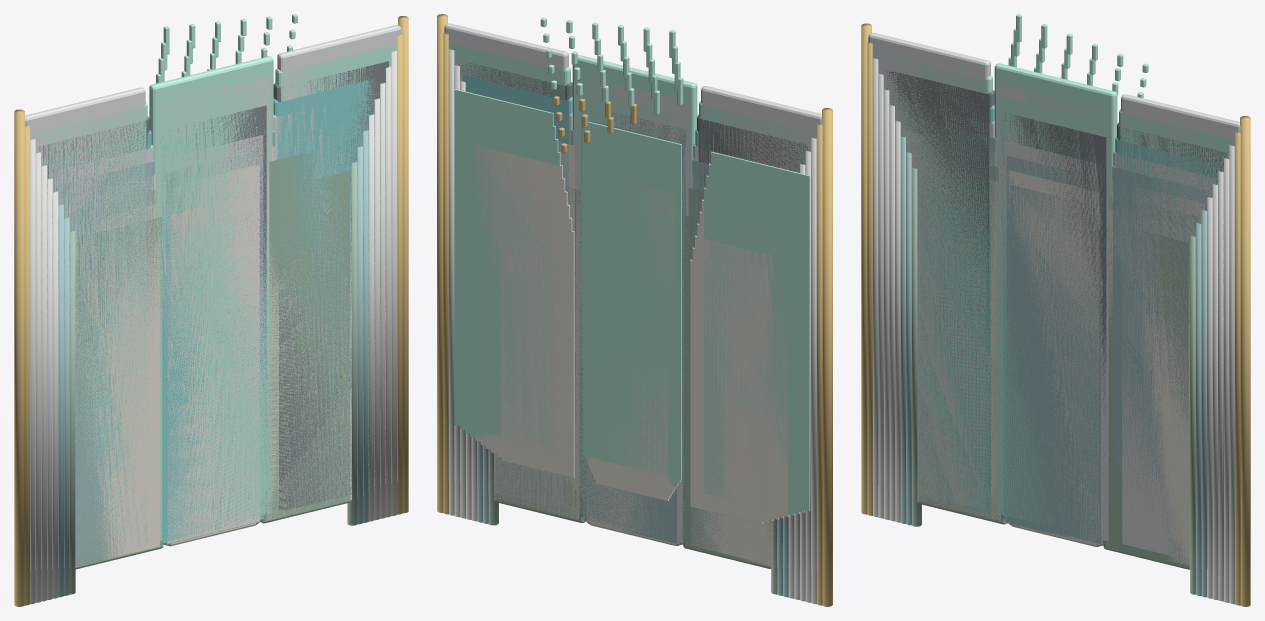
Rendered from Gear19.fbx.
The picture shows the model from 3 angles, left to right: view 1: azimuth 30°, elevation 25°; view 2: azimuth 150°, elevation 25°; view 3: azimuth 330°, elevation 25°; orthographic projection.
Parts seen in each view (by area): view 1: Gear19_V10_Glow, Gear19_V1_Sage, Gear19_V2_Ivory, Gear19_V3_Linen, Gear19_V10_Platinum, Gear19_V9_Glow, Gear19_V7_Aqua, Gear19_V8_Graphite, Gear19_V5_Blue, Gear19_V6_Aqua, Gear19_V3_Sage, Gear19_V10_Gold (+16 smaller); view 2: Gear19_V10_Glow, Gear19_V1_Linen, Gear19_V9_Glow, Gear19_V6_Linen, Gear19_V3_Linen, Gear19_V7_Glow, Gear19_V8_Glow, Gear19_V10_Platinum, Gear19_V10_Gold, Gear19_V2_Linen, Gear19_V9_Platinum, Gear19_V1_Sage (+21 smaller); view 3: Gear19_V10_Platinum, Gear19_V4_Blue, Gear19_V9_Glow, Gear19_V7_Aqua, Gear19_V5_Blue, Gear19_V4_Linen, Gear19_V10_Glow, Gear19_V3_Linen, Gear19_V1_Sage, Gear19_V8_Graphite, Gear19_V2_Blue, Gear19_V10_Gold (+15 smaller).
Part boxes in pixels (bbox=[...]): Gear19_V10_Glow: bbox=[149, 14, 297, 527]; Gear19_V1_Sage: bbox=[69, 162, 357, 594]; Gear19_V2_Ivory: bbox=[72, 176, 351, 568]; Gear19_V3_Linen: bbox=[165, 164, 260, 545]; Gear19_V10_Platinum: bbox=[25, 25, 401, 570]; Gear19_V9_Glow: bbox=[32, 29, 394, 570]; Gear19_V7_Aqua: bbox=[44, 80, 380, 569]; Gear19_V8_Graphite: bbox=[38, 61, 388, 569]; Gear19_V5_Blue: bbox=[55, 130, 368, 568]; Gear19_V6_Aqua: bbox=[162, 127, 264, 542]; Gear19_V3_Sage: bbox=[69, 149, 357, 567]; Gear19_V10_Gold: bbox=[14, 16, 408, 606]; Gear19_V10_Glow: bbox=[454, 17, 810, 536]; Gear19_V1_Linen: bbox=[501, 230, 763, 524]; Gear19_V9_Glow: bbox=[451, 33, 813, 570]; Gear19_V6_Linen: bbox=[475, 146, 789, 517]; Gear19_V3_Linen: bbox=[490, 187, 773, 545]; Gear19_V7_Glow: bbox=[470, 64, 794, 515]; Gear19_V8_Glow: bbox=[464, 49, 799, 534]; Gear19_V10_Platinum: bbox=[444, 23, 822, 570]; Gear19_V10_Gold: bbox=[437, 14, 832, 606]; Gear19_V2_Linen: bbox=[496, 217, 768, 522]; Gear19_V9_Platinum: bbox=[576, 76, 689, 535]; Gear19_V1_Sage: bbox=[488, 187, 777, 594]; Gear19_V10_Platinum: bbox=[868, 32, 1240, 571]; Gear19_V4_Blue: bbox=[1006, 155, 1103, 545]; Gear19_V9_Glow: bbox=[878, 28, 1232, 511]; Gear19_V7_Aqua: bbox=[889, 96, 1220, 569]; Gear19_V5_Blue: bbox=[899, 116, 1210, 568]; Gear19_V4_Linen: bbox=[902, 130, 1204, 568]; Gear19_V10_Glow: bbox=[994, 14, 1148, 530]; Gear19_V3_Linen: bbox=[1008, 170, 1102, 546]; Gear19_V1_Sage: bbox=[912, 167, 1195, 594]; Gear19_V8_Graphite: bbox=[883, 70, 1226, 570]; Gear19_V2_Blue: bbox=[906, 152, 1201, 595]; Gear19_V10_Gold: bbox=[861, 23, 1250, 606].
Bounding box in the file's own units: 184 × 240 × 6.22.
